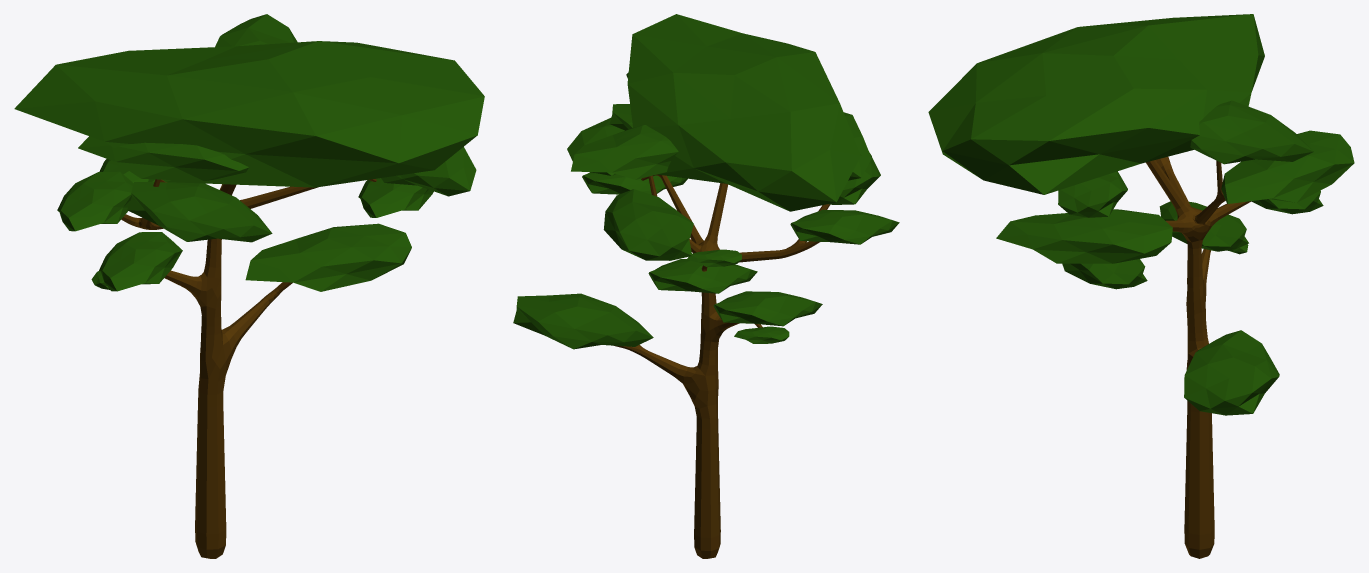
Rendered from M_Tropische Boom.fbx.
3 views of the same model, side by side, from view 1: azimuth 30°, elevation 25°; view 2: azimuth 150°, elevation 25°; view 3: azimuth 270°, elevation 25° (orthographic). The views are drawn at different scales.
Visible parts, largest first — view 1: Cube; view 2: Cube; view 3: Cube.
Boxes of the visible parts, x1,y1,x2,y2 form: Cube: (14, 14, 484, 558); Cube: (513, 14, 899, 558); Cube: (928, 14, 1354, 558).
Bounding box in the file's own units: 1239 × 1613 × 1225.
